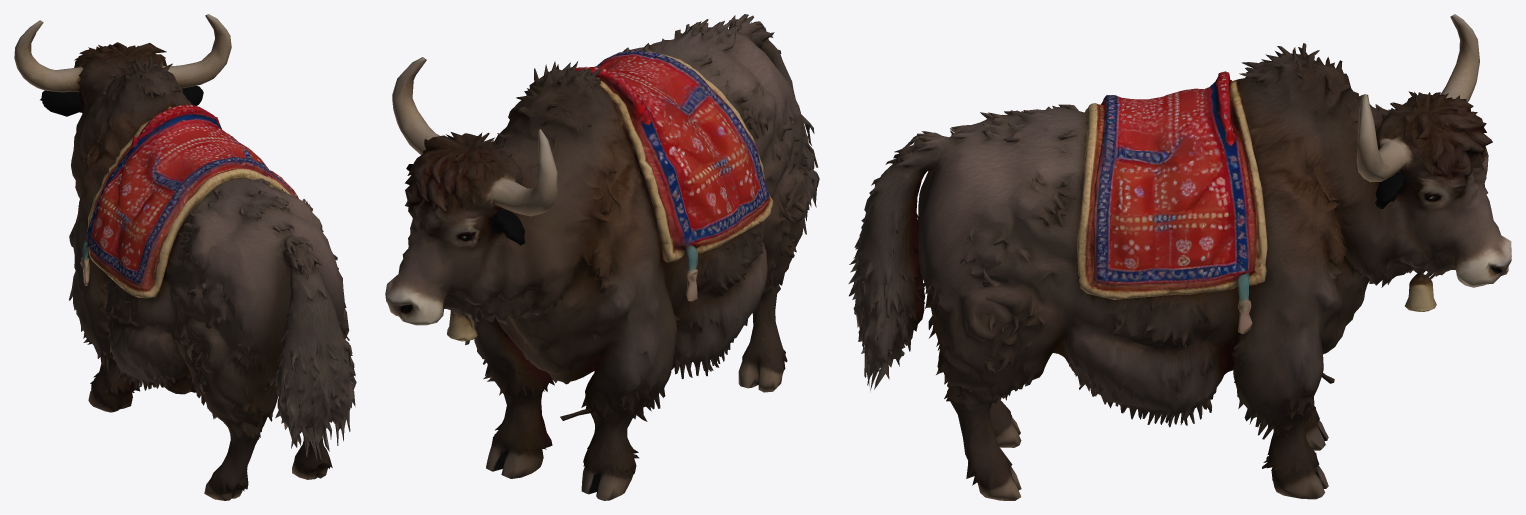
Rendered from yak.glb.
3 views of the same model, side by side, from view 1: azimuth 30°, elevation 25°; view 2: azimuth 150°, elevation 25°; view 3: azimuth 270°, elevation 25° (orthographic). The views are drawn at different scales.
Visible parts, largest first — view 1: tripo_node_ef37c831-263a-47da-9e5e-78fc29606b7f; view 2: tripo_node_ef37c831-263a-47da-9e5e-78fc29606b7f; view 3: tripo_node_ef37c831-263a-47da-9e5e-78fc29606b7f.
Part boxes in pixels (box(x1,y1,x2,y2)): tripo_node_ef37c831-263a-47da-9e5e-78fc29606b7f: box(14, 14, 356, 500); tripo_node_ef37c831-263a-47da-9e5e-78fc29606b7f: box(385, 14, 819, 500); tripo_node_ef37c831-263a-47da-9e5e-78fc29606b7f: box(848, 14, 1511, 500).
Size of the model in its own units: 0.9427 by 1.5 by 2.12.
1 material, 1 textured.
